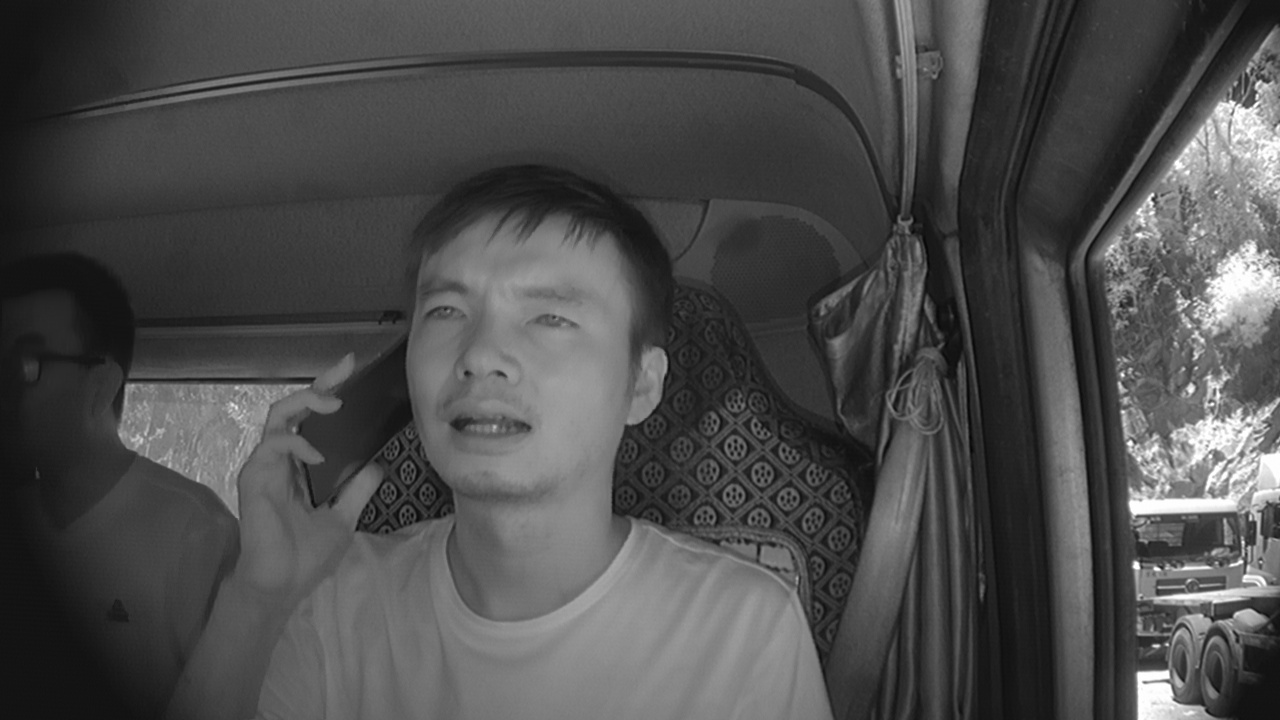hand: (230, 347, 377, 573)
